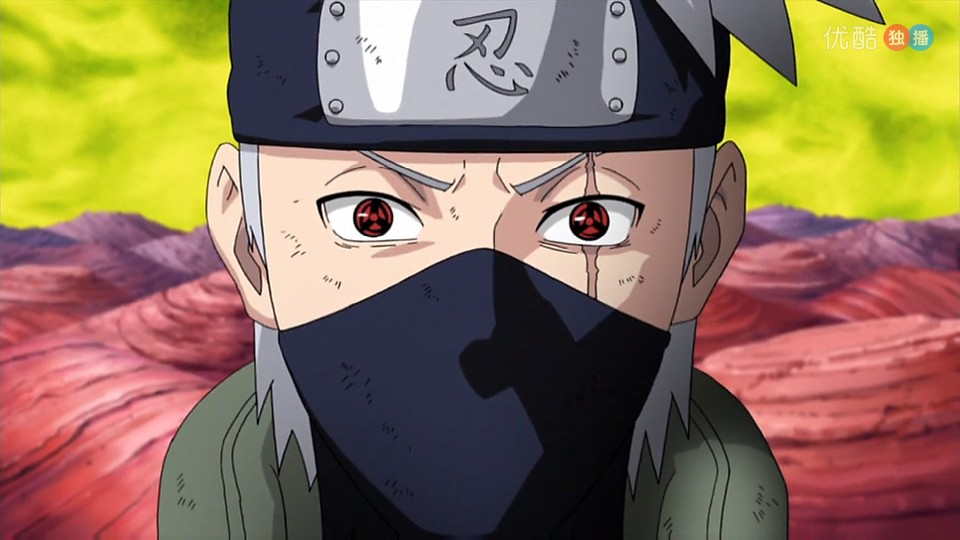kakashi: (198, 5, 753, 540)
